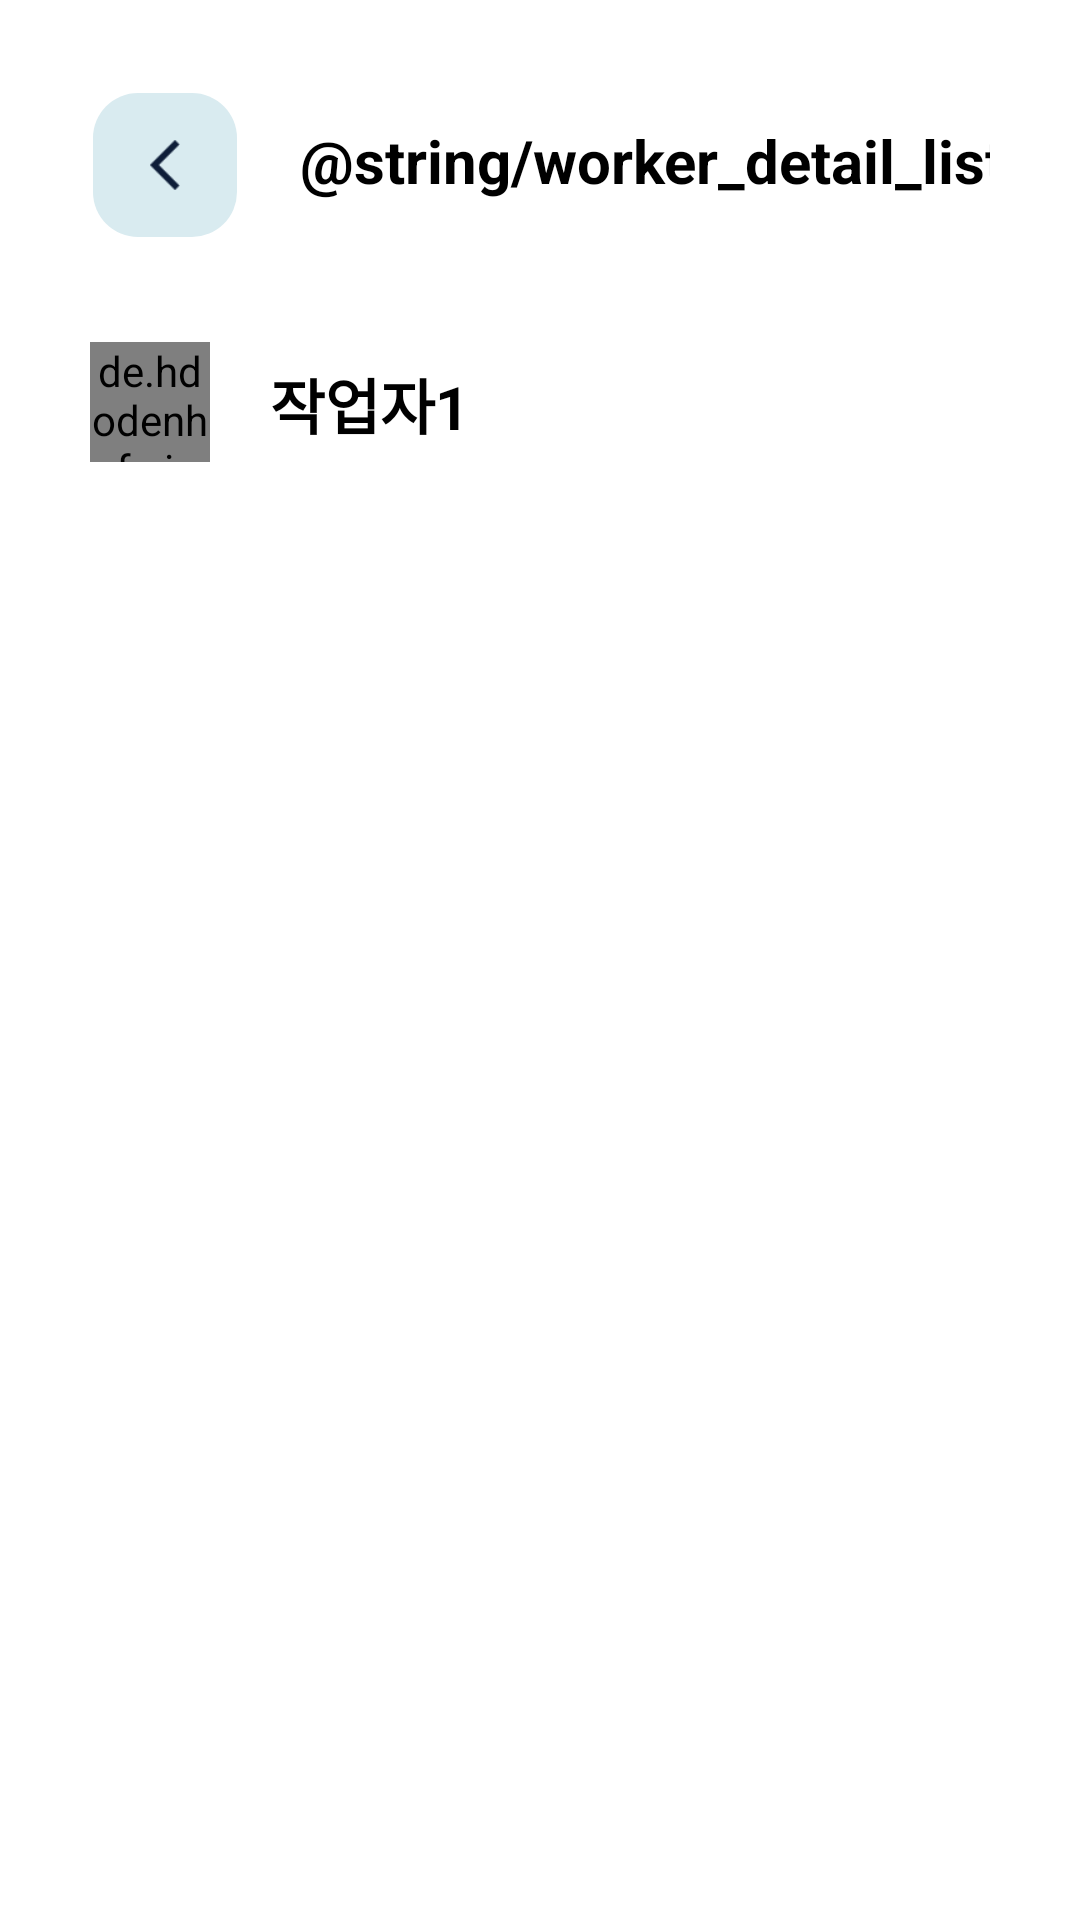

Point at icon controls on the screen. Image size 1080px x 1920px, points as (x,y).
back arrow: (165,165)
